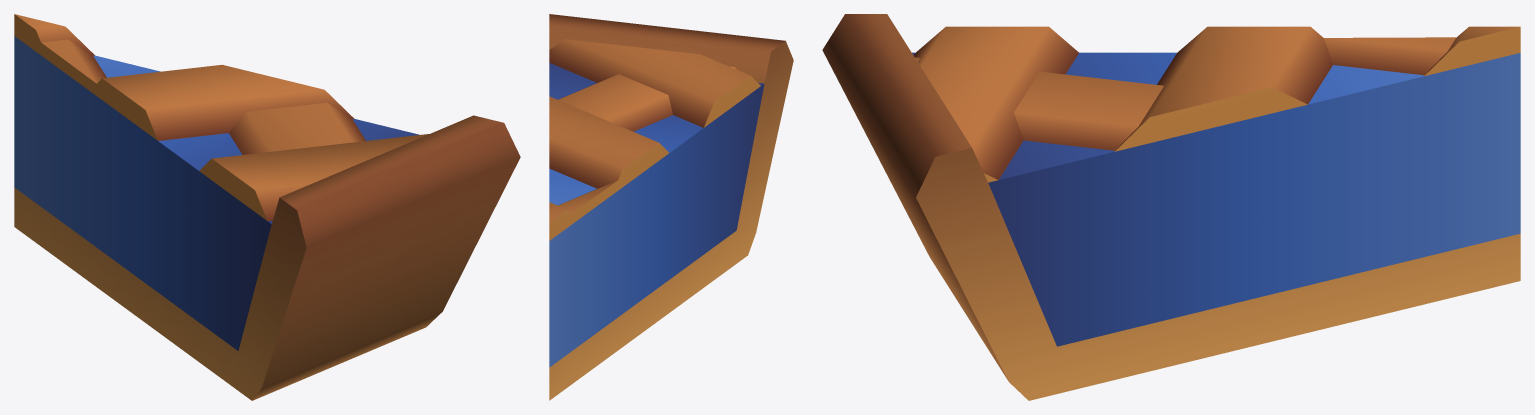
Rendered from m_AmericanPie01_Slice03.fbx.
3 renders of one model, left to right at view 1: azimuth 30°, elevation 25°; view 2: azimuth 150°, elevation 25°; view 3: azimuth 270°, elevation 25°, orthographic. The views are drawn at different scales.
Parts seen in each view (by area): view 1: m_AmericanPie01_Slice03; view 2: m_AmericanPie01_Slice03; view 3: m_AmericanPie01_Slice03.
Boxes of the visible parts, x1,y1,x2,y2 form: m_AmericanPie01_Slice03: (14, 14, 520, 400); m_AmericanPie01_Slice03: (549, 14, 793, 400); m_AmericanPie01_Slice03: (822, 14, 1520, 400).
Bounding box in the file's own units: 7 × 5.91 × 14.
